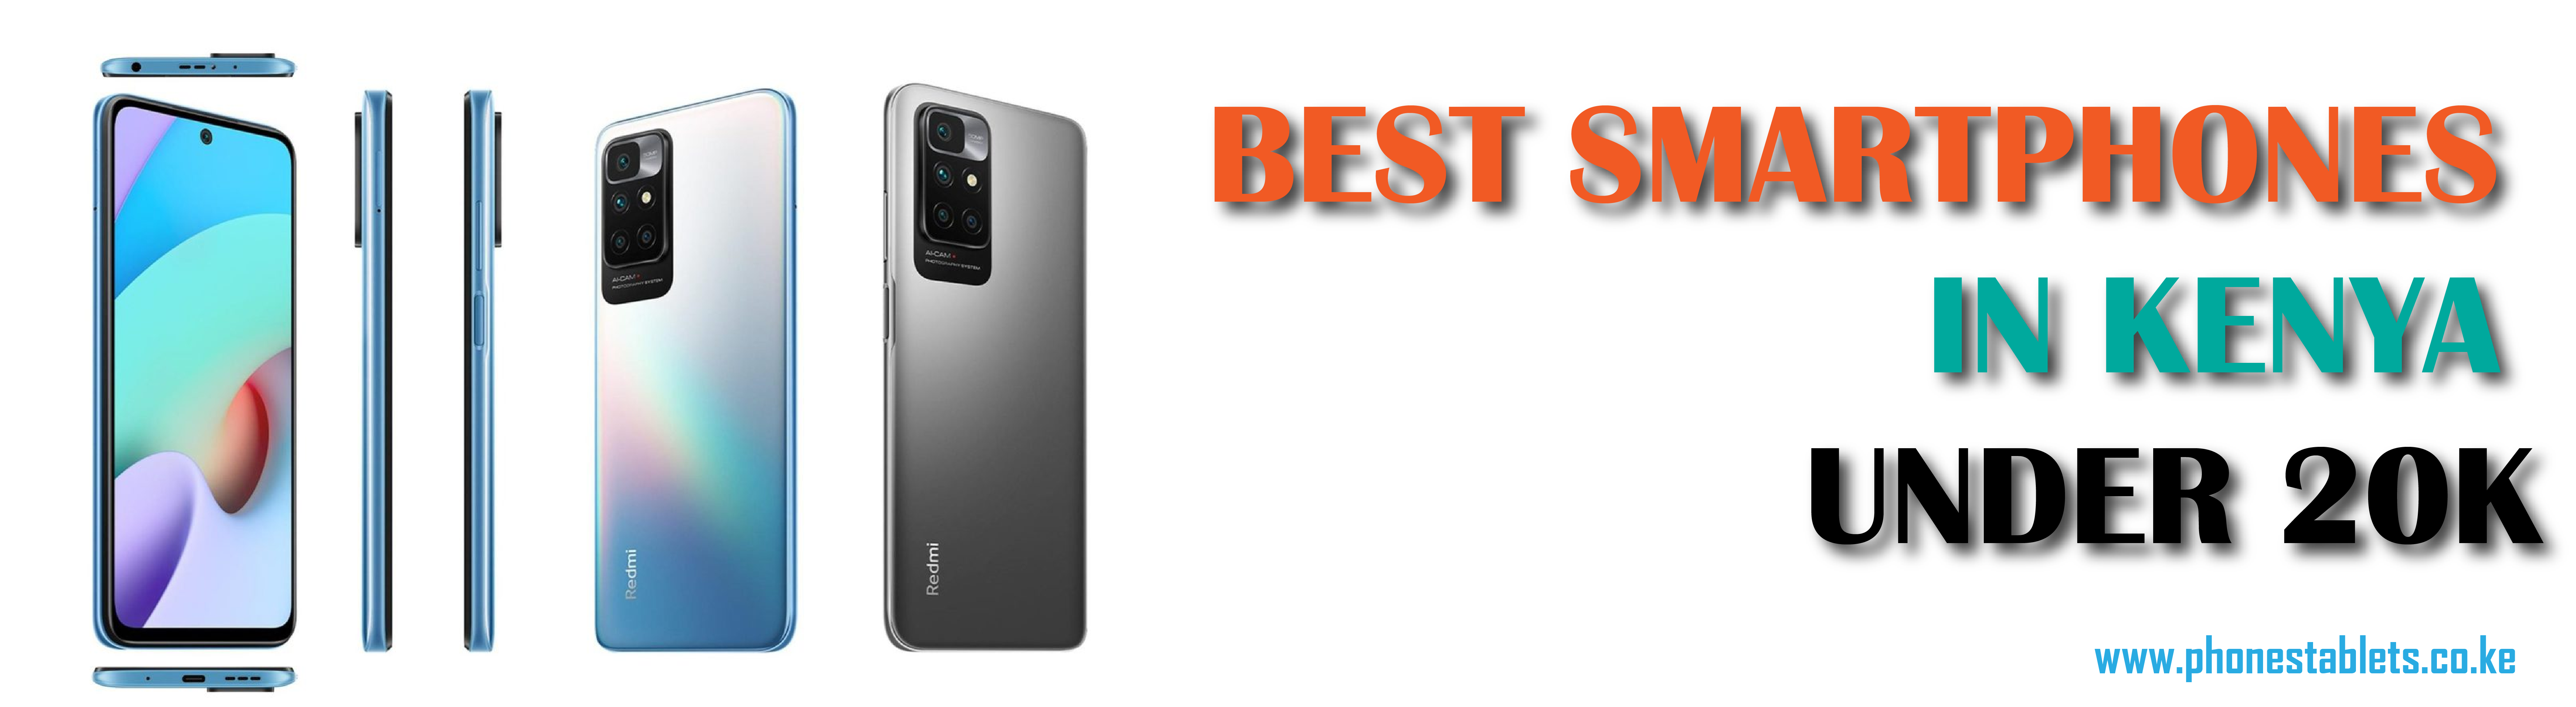phone: (53, 95, 324, 674)
